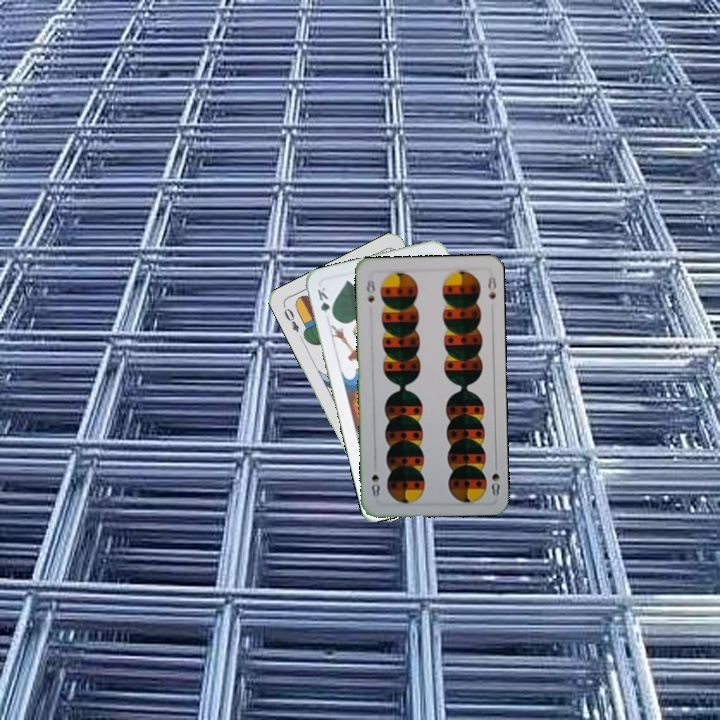EO: (279, 301, 302, 335)
GK: (313, 283, 336, 321)
S8: (487, 458, 503, 498), (363, 274, 378, 305)
